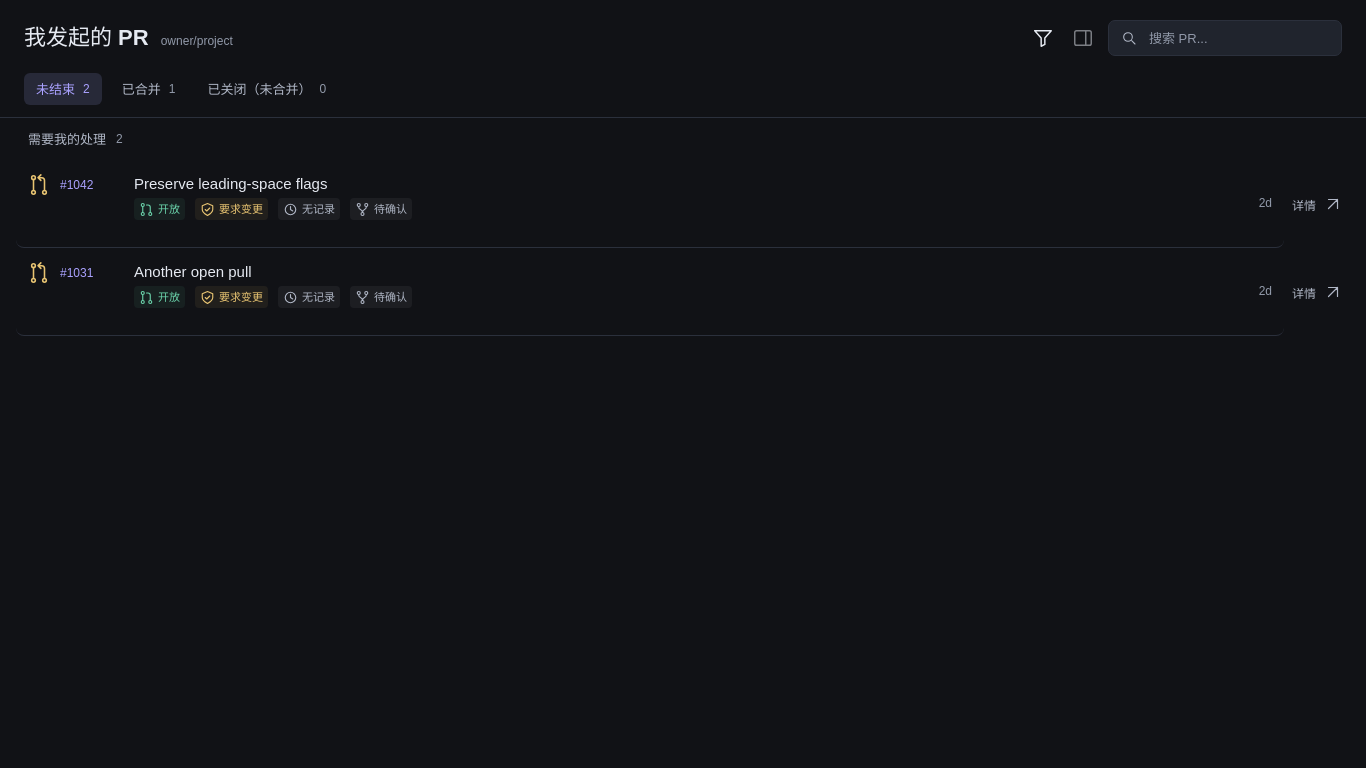
authored selection and filtering › closes with Escape and restores row focus, and can reopen the explicitly selected PR
Step 1. Click the button "#1031 Another open pull 开放 要求变更 无记录 待确认 2d" → (193, 272), box [16,248,1284,336]
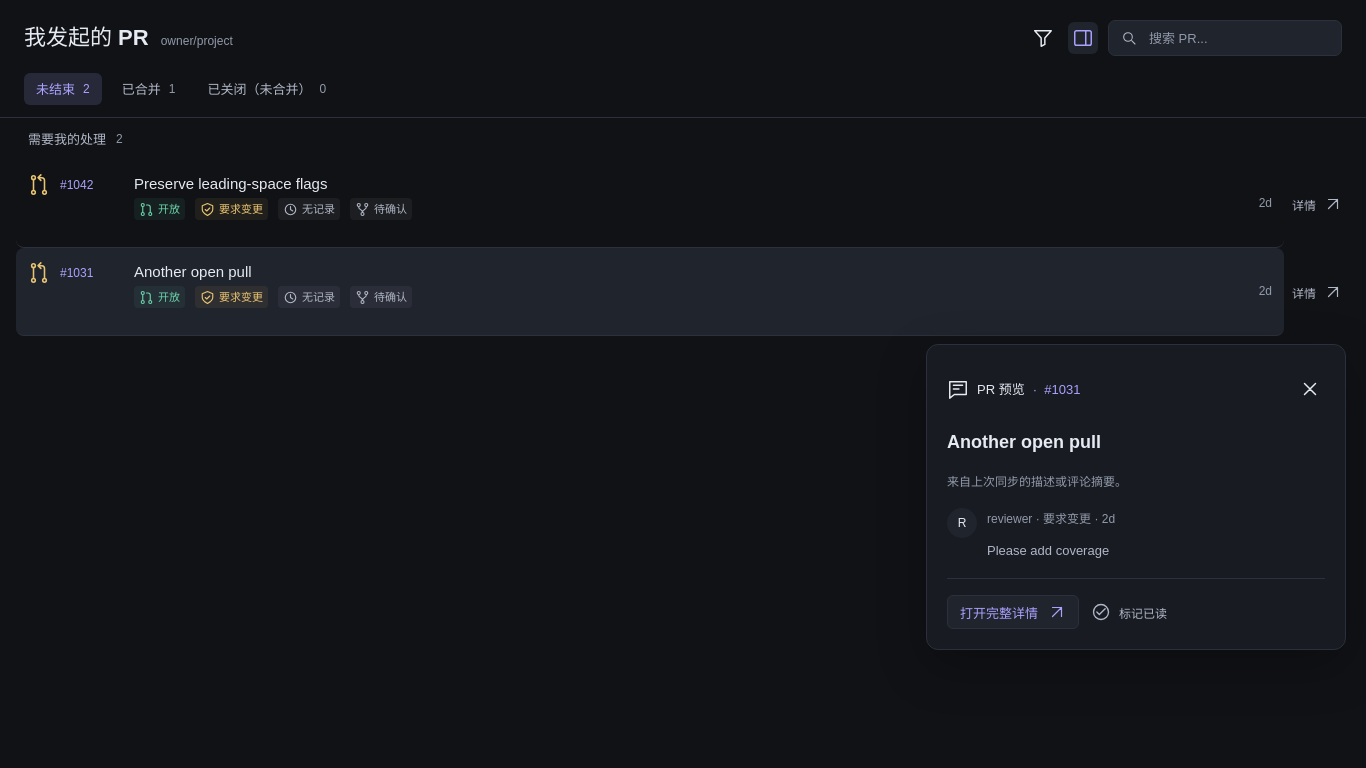
Step 2. Press Escape in the element "PR 预览", box [926,344,1346,650]
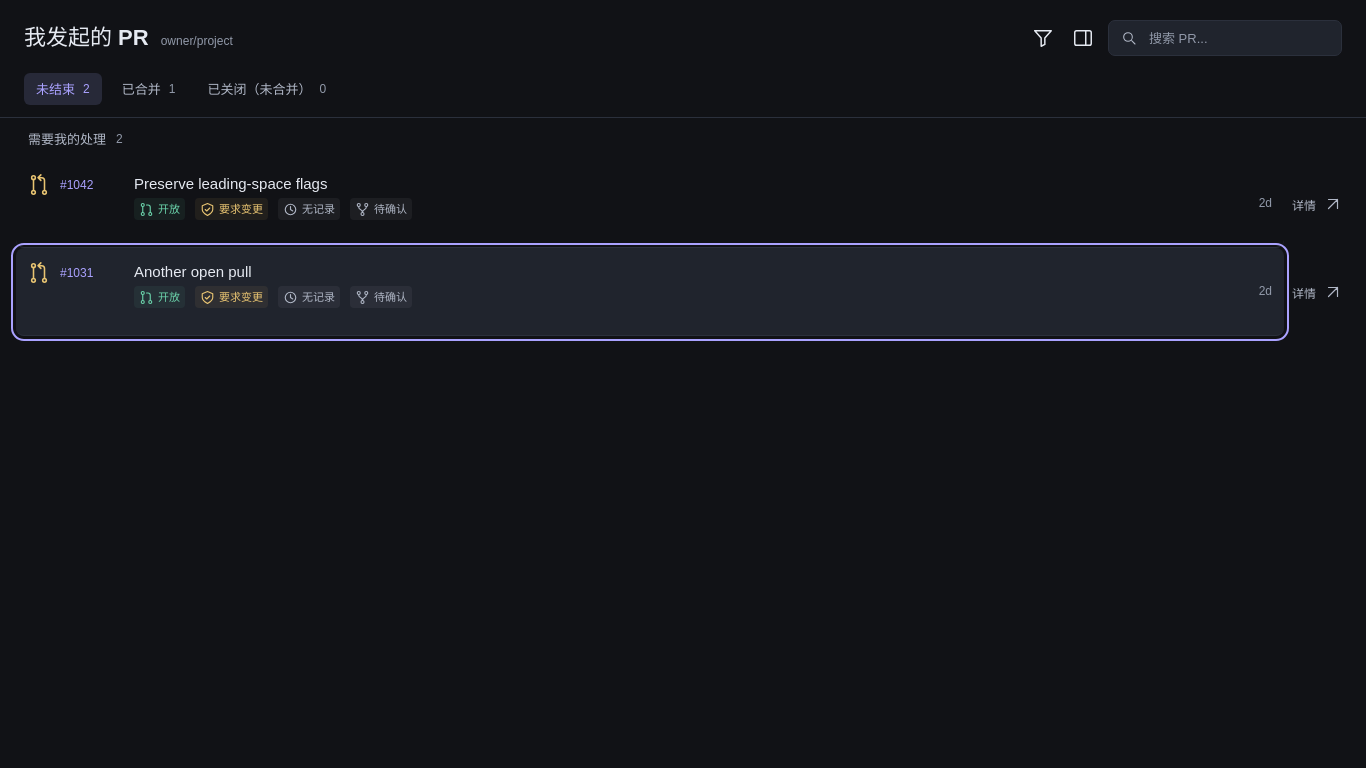
Expected: the heading "PR 预览" is gone
Step 3. Click the button named "显示 PR 预览" → (1083, 38), box [1068,22,1098,54]
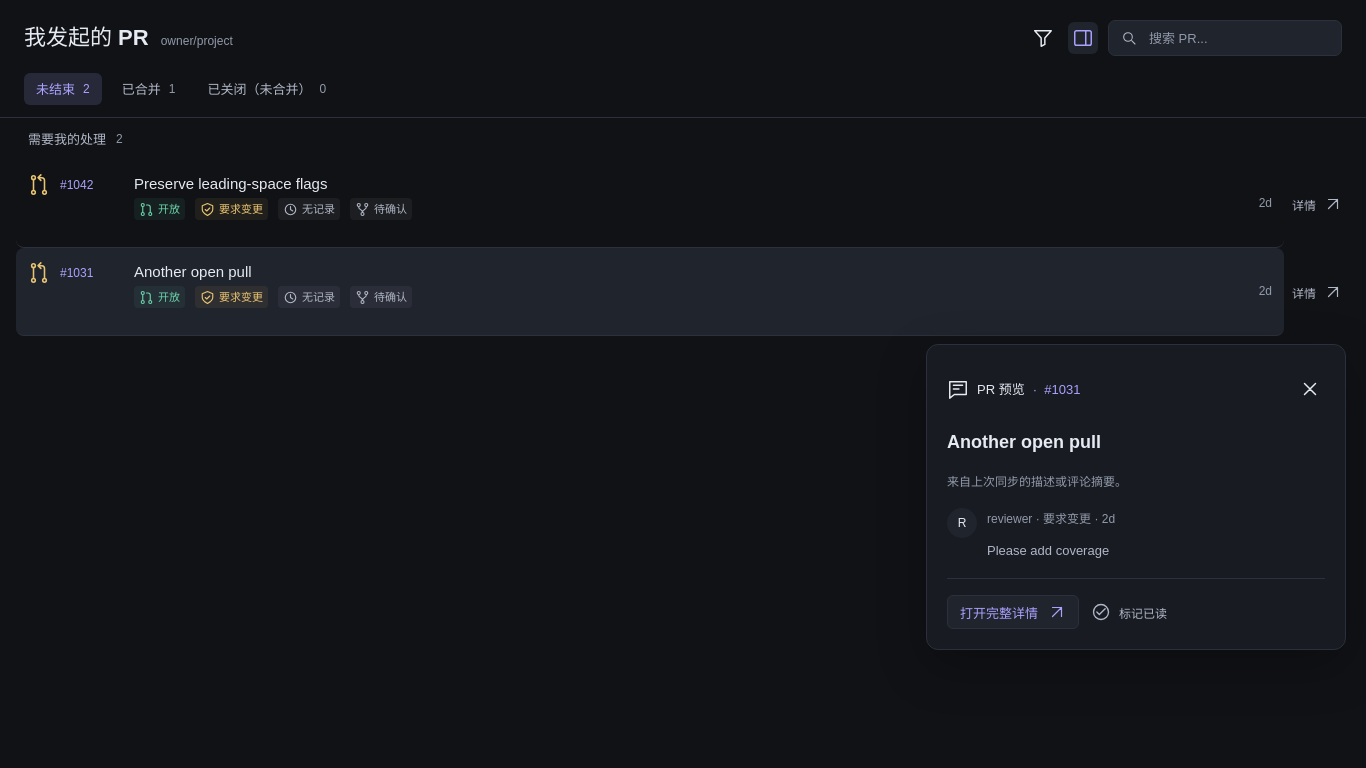
Expected: the text "· #1031" is shown, [1033,382,1080,396]
Step 4. Click the button named "关闭 PR 预览" → (1310, 389), box [1295,373,1325,405]
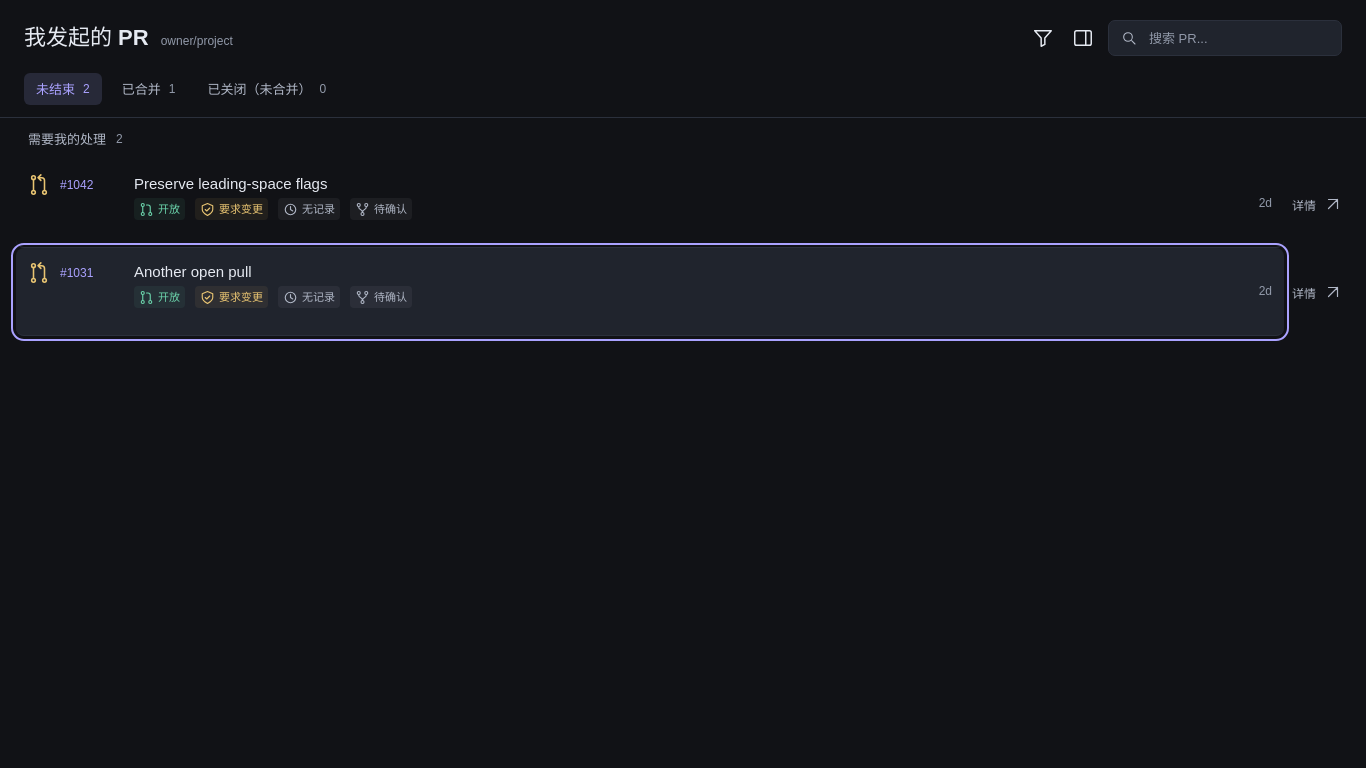
Expected: the heading "PR 预览" is gone
